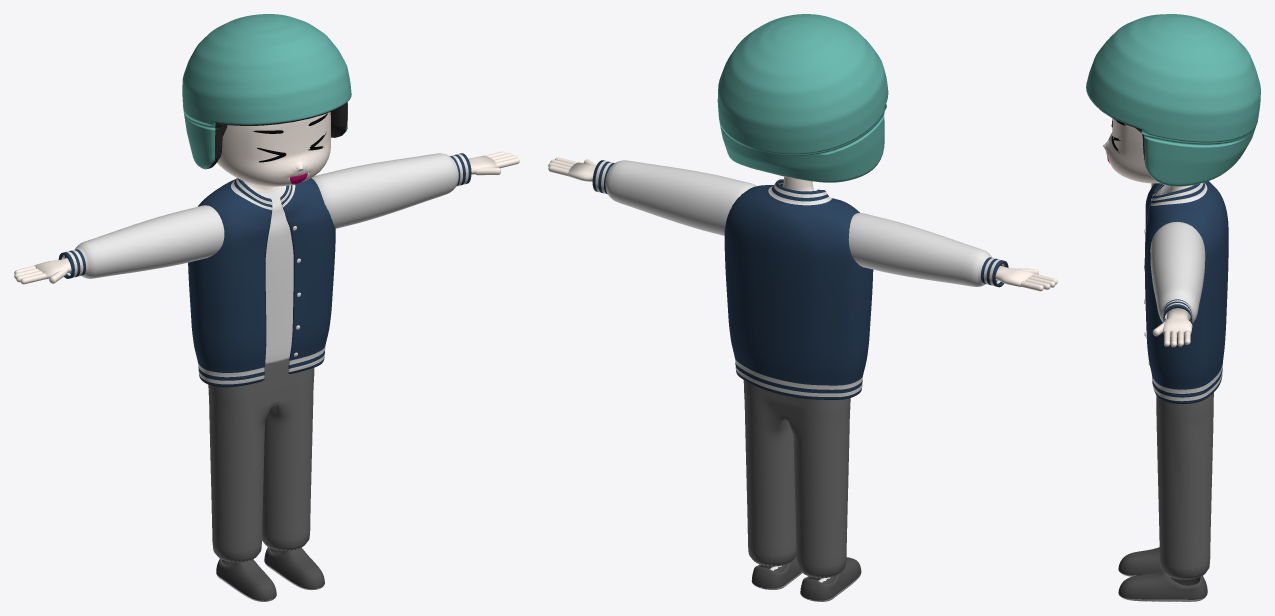
The model's file is Body2.fbx.
3 views of the same model, side by side, from view 1: azimuth 30°, elevation 25°; view 2: azimuth 150°, elevation 25°; view 3: azimuth 270°, elevation 25° (orthographic).
Parts seen in each view (by area): view 1: Cylinder.007, Cube.002, Cylinder.002, Cylinder.015; view 2: Cylinder.007, Cube.002, Cylinder.002, Cylinder.015; view 3: Cylinder.007, Cube.002, Cylinder.015.
Part boxes in pixels (bbox=[...]): Cylinder.007: bbox=[188, 178, 335, 601]; Cube.002: bbox=[182, 14, 351, 186]; Cylinder.002: bbox=[14, 205, 224, 284]; Cylinder.015: bbox=[312, 151, 519, 228]; Cylinder.007: bbox=[724, 176, 873, 601]; Cube.002: bbox=[717, 14, 888, 182]; Cylinder.002: bbox=[848, 213, 1057, 291]; Cylinder.015: bbox=[548, 157, 756, 235]; Cylinder.007: bbox=[1118, 181, 1228, 601]; Cube.002: bbox=[1086, 14, 1260, 186]; Cylinder.015: bbox=[1150, 221, 1205, 347].
Size of the model in its own units: 1764 by 1873 by 528.
